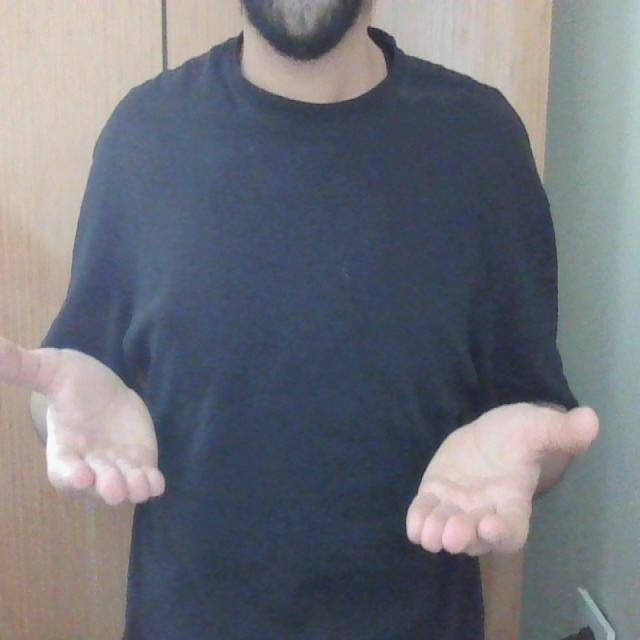Evet: (0, 310, 604, 567)
